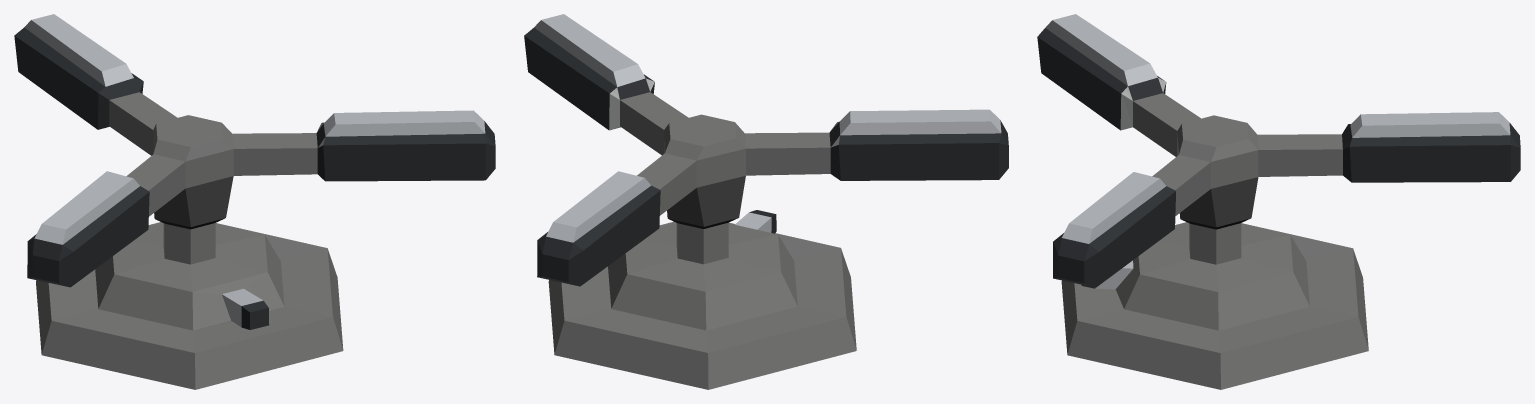
Rendered from SM_Prop_Sprinkler_01.fbx.
The picture shows the model from 3 angles, left to right: view 1: azimuth 30°, elevation 25°; view 2: azimuth 150°, elevation 25°; view 3: azimuth 270°, elevation 25°; orthographic projection.
Parts seen in each view (by area): view 1: SM_Prop_Sprinkler_01; view 2: SM_Prop_Sprinkler_01; view 3: SM_Prop_Sprinkler_01.
Part boxes in pixels (bbox=[...]): SM_Prop_Sprinkler_01: bbox=[14, 14, 495, 389]; SM_Prop_Sprinkler_01: bbox=[524, 14, 1008, 389]; SM_Prop_Sprinkler_01: bbox=[1037, 14, 1520, 389].
Bounding box in the file's own units: 36.83 × 14.74 × 32.78.
